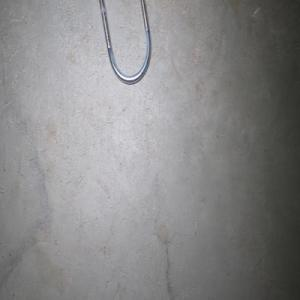ClampPart: (98, 0, 152, 85)
